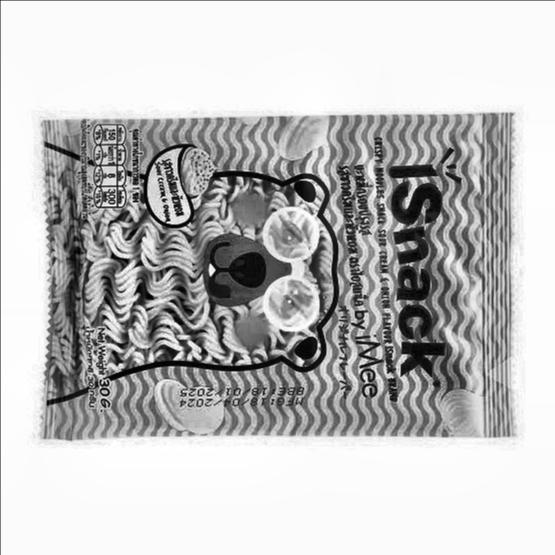snackbag: (14, 94, 536, 458)
